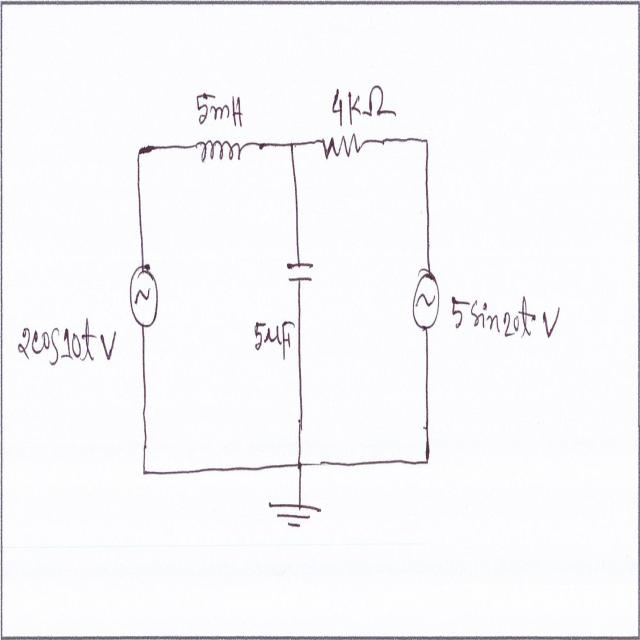ac_current: (126, 261, 160, 335), (411, 269, 443, 332)
capacitor: (287, 250, 315, 293)
ground: (266, 494, 327, 537)
inductor: (192, 131, 247, 173)
resistor: (318, 124, 370, 164)
